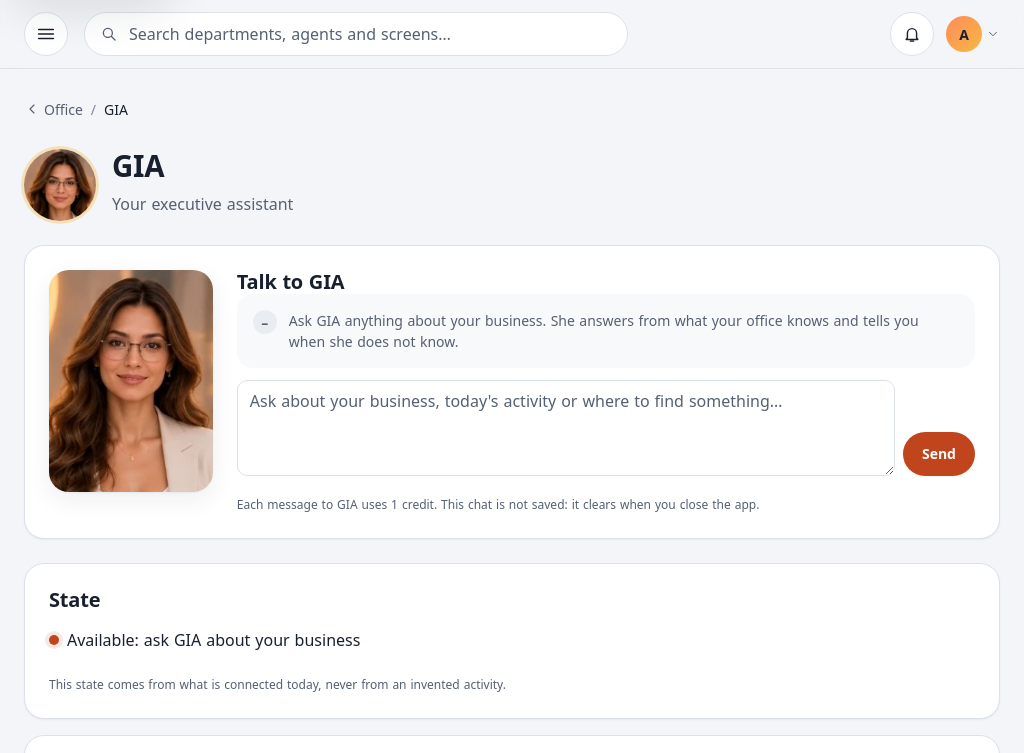
Test case: GIA's follow-up proposal (C5) › never says it scheduled what the API refused, and a discard schedules nothing
Replace the text in the text box named "Your message to GIA" with "Recuérdame llamar a Juan mañana" at (566, 428), box [237,380,895,476]
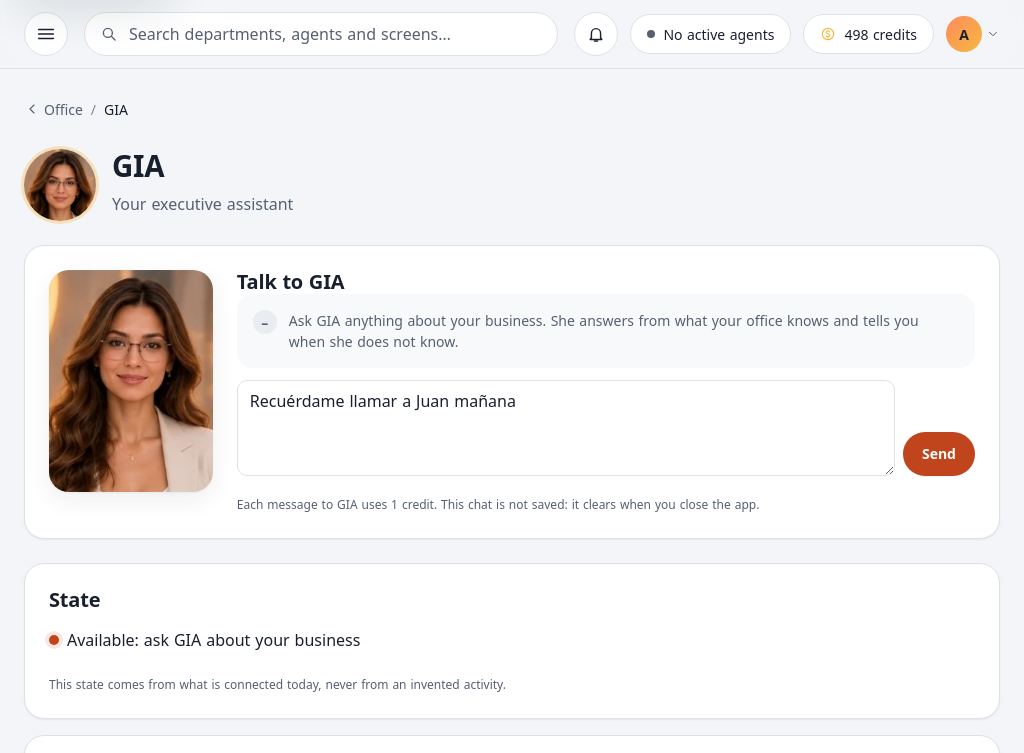
Click the button "Send" at (939, 454), box [903,432,975,476]
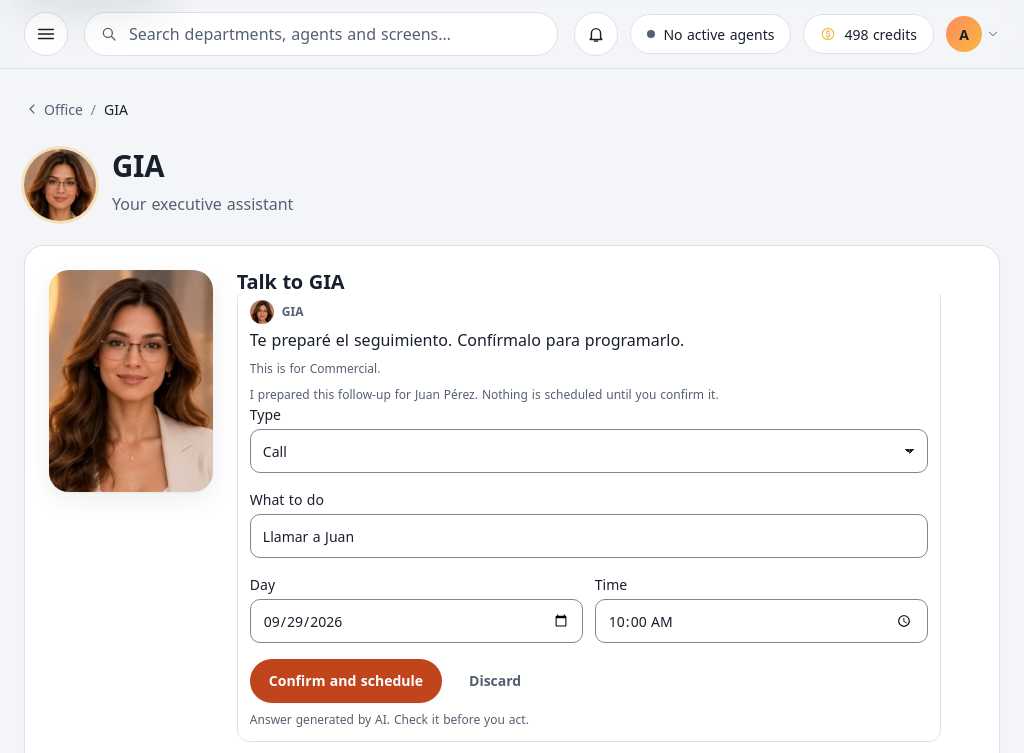
Click the button "Confirm and schedule" at (346, 681), box [250,659,442,703]
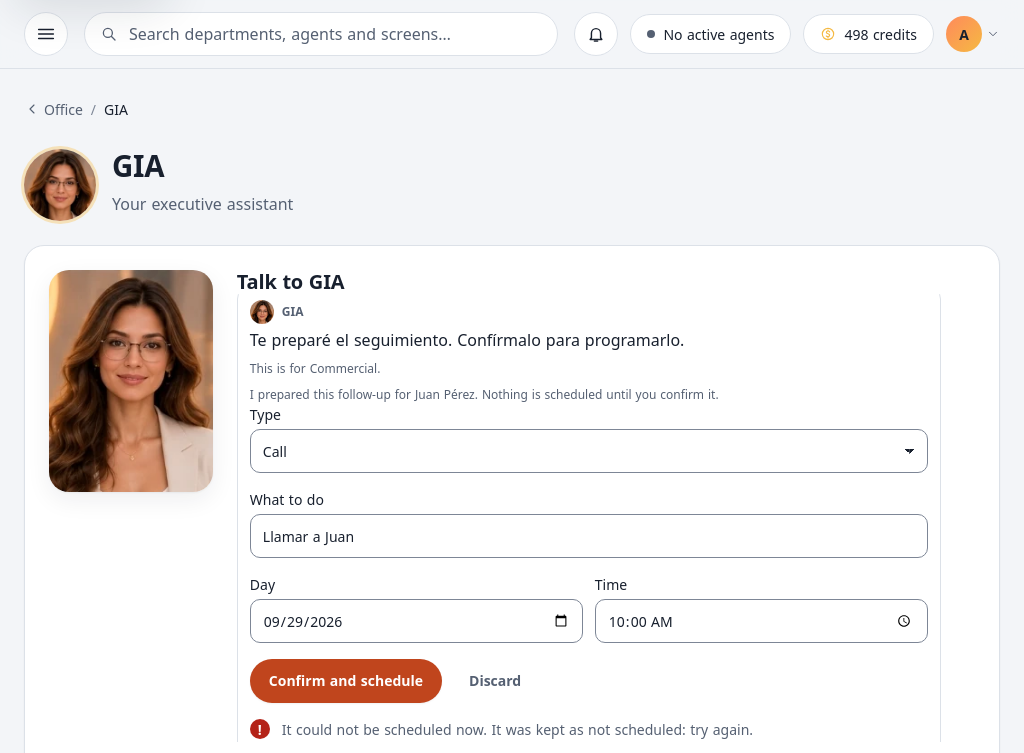
Now the message "It could not be scheduled now. It was kept as not scheduled: try again." is shown, box [250,719,753,739]
Click the button "Discard" at (495, 681), box [450,659,540,703]
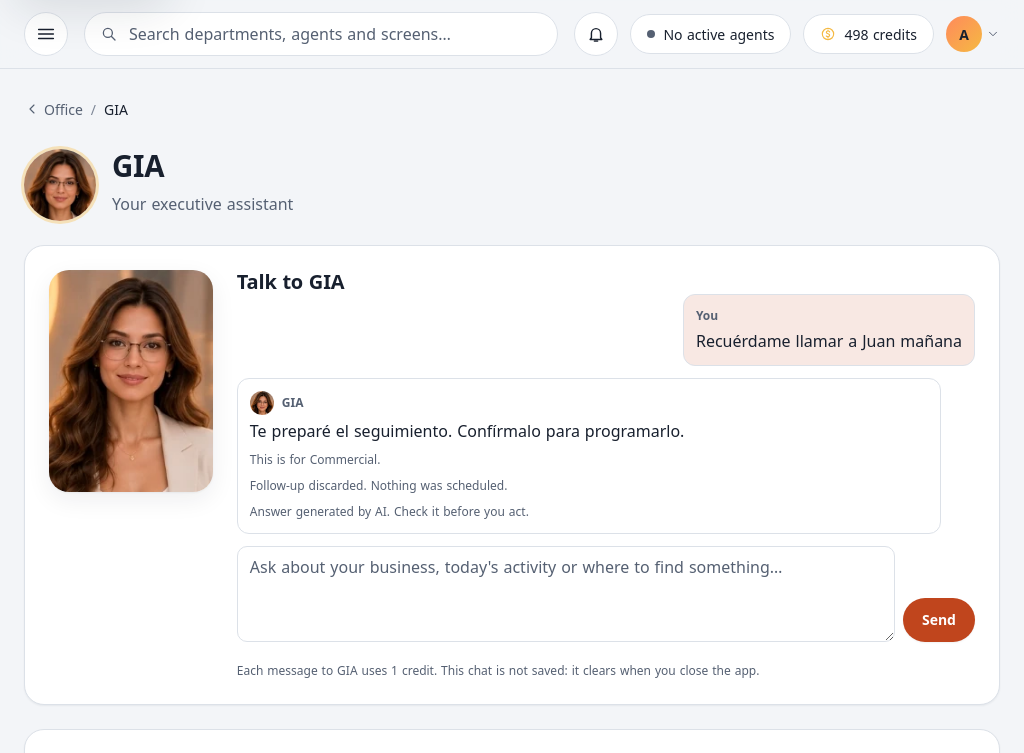
Now the text "Follow-up discarded. Nothing was scheduled." is shown, box [250,477,507,494]
